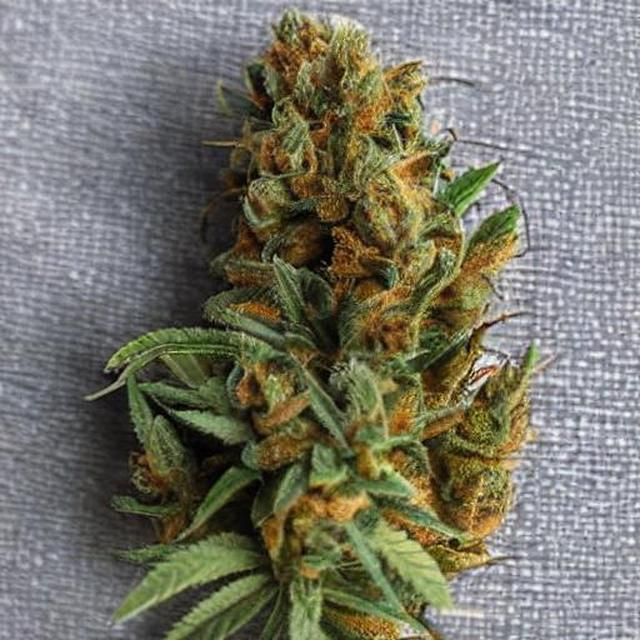Marijuana Joint: (71, 5, 595, 640)
